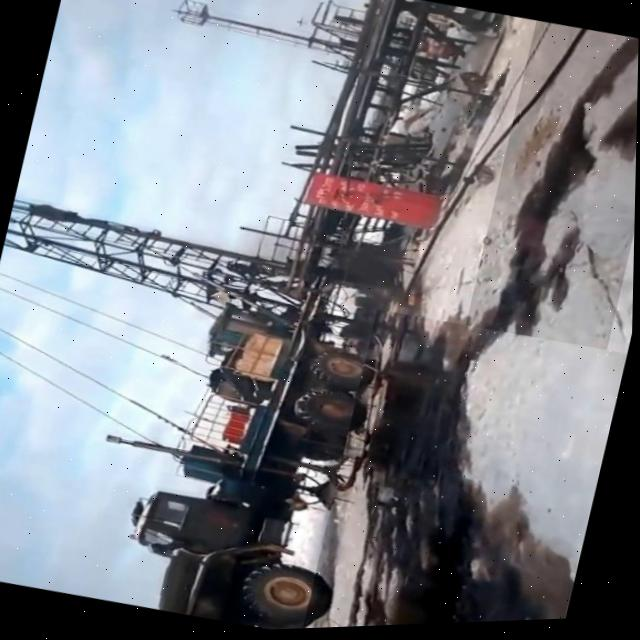spillage: (306, 312, 627, 631), (460, 24, 639, 388)
